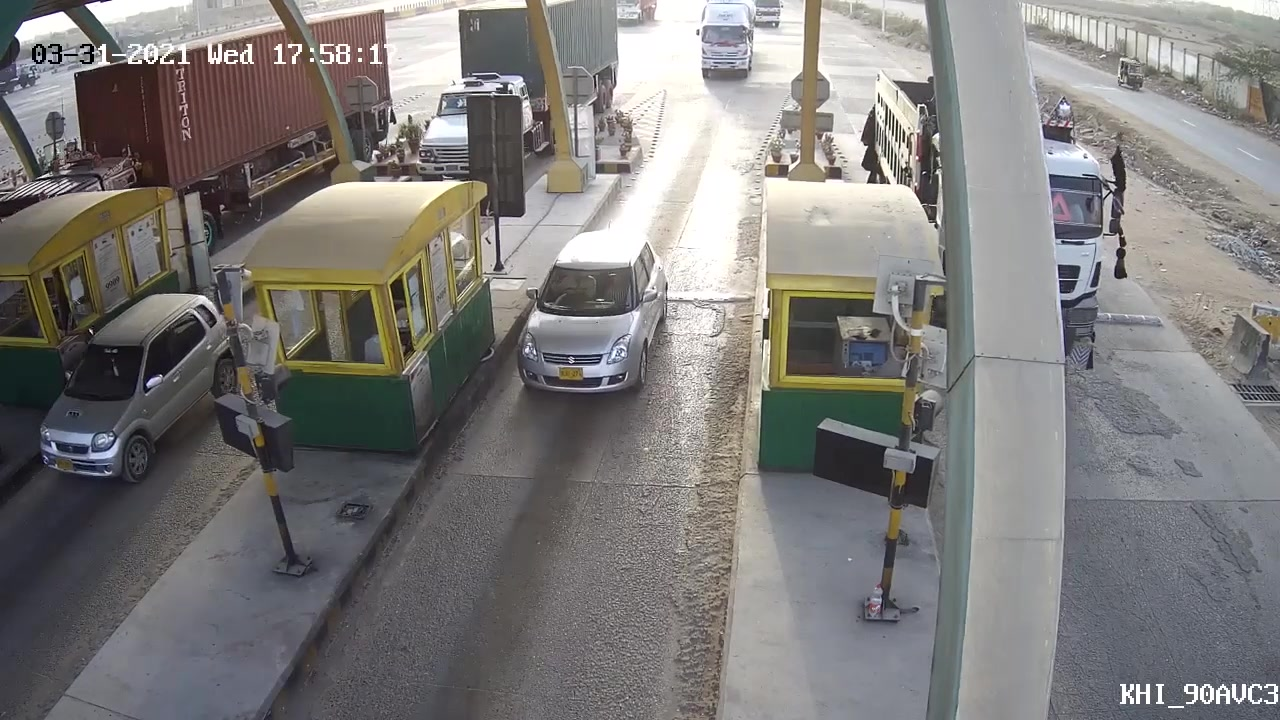F1: (505, 224, 675, 397)
